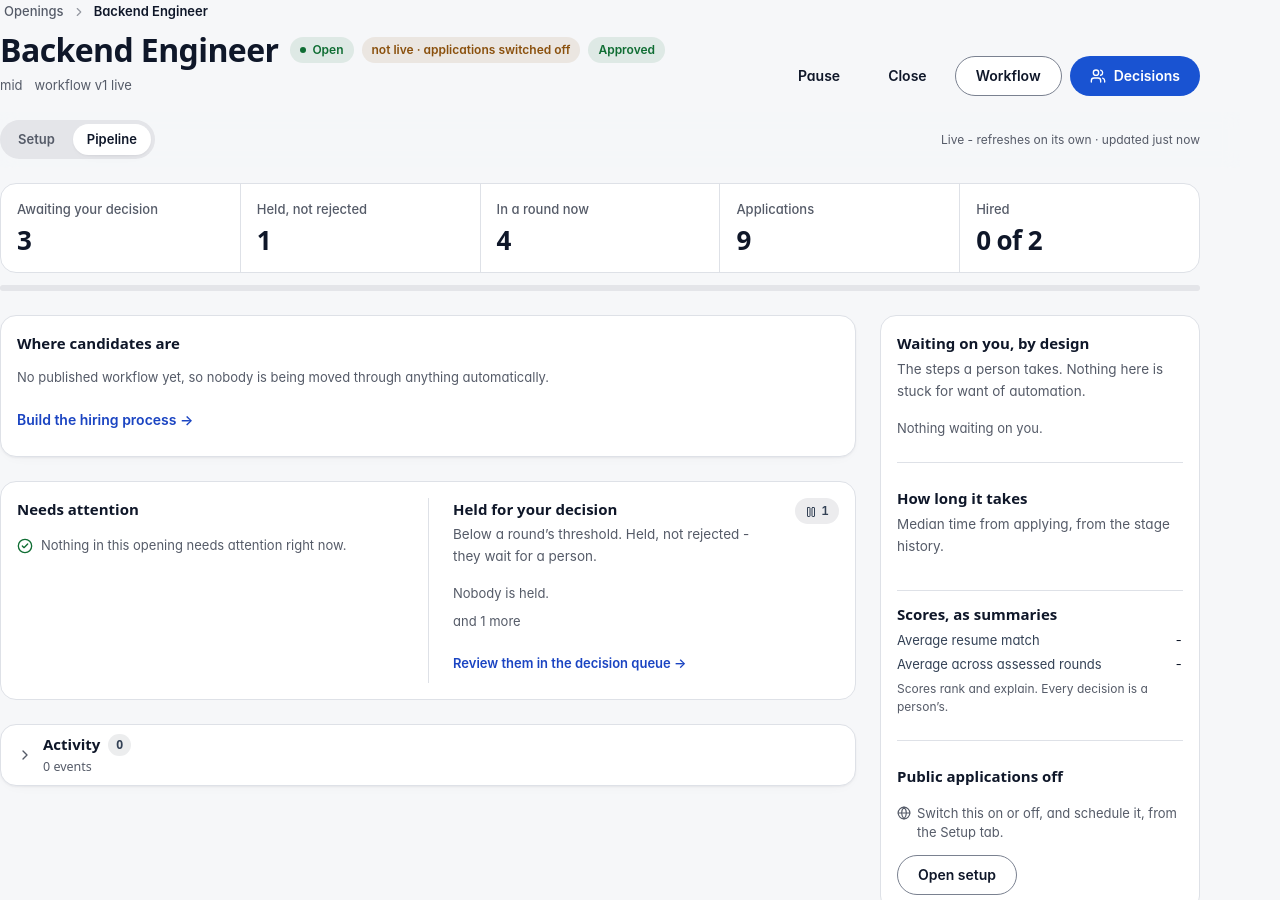
closing an opening (AC-12) › prompts with the count instead of reporting a failure
The width and height of the screenshot is (1280, 900).
Click the button "Close".
click(907, 76)  # box [868,56,947,96]
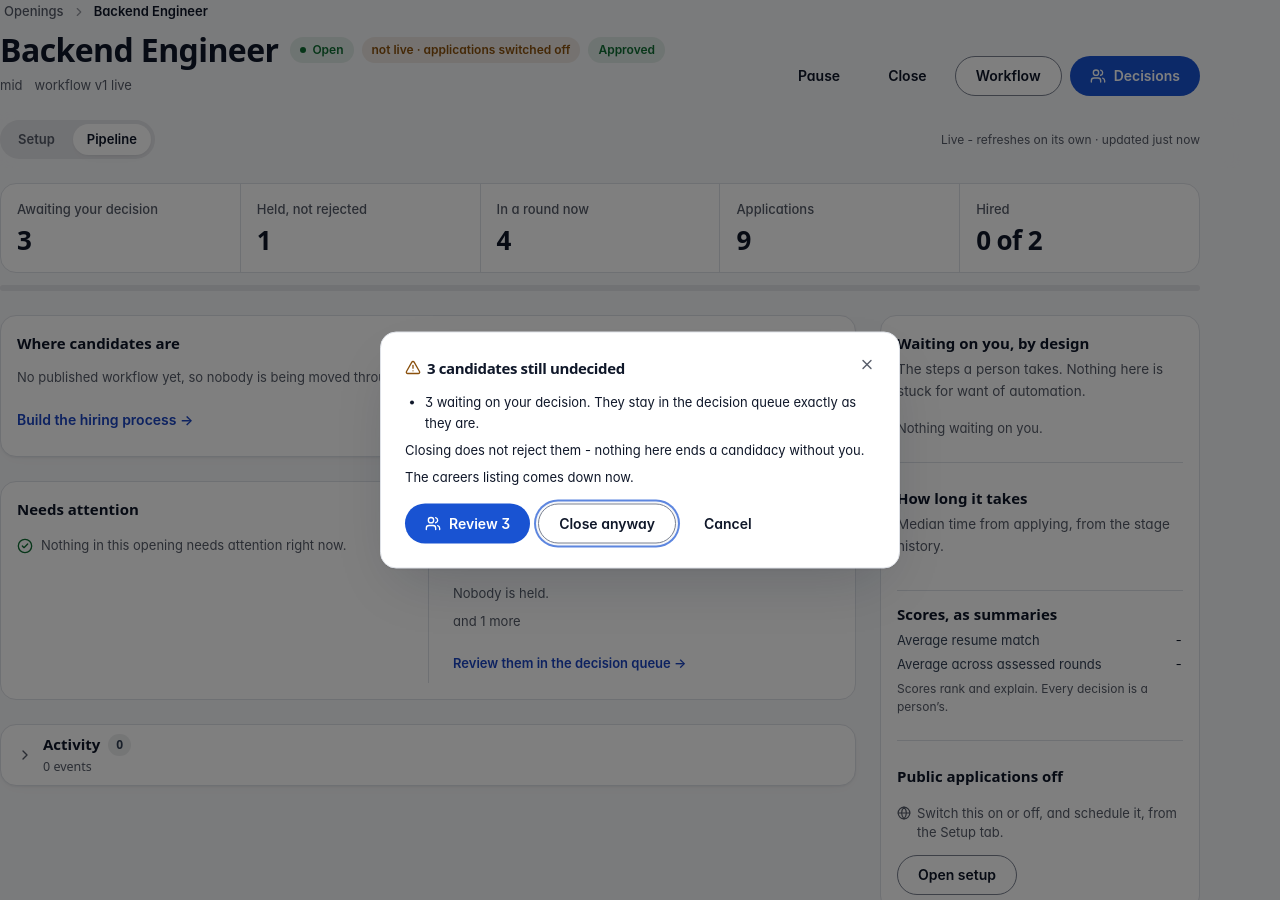
Check: the dialog is shown, box [380,332,900,568]
Check: the heading "3 candidates still undecided" is shown, box [405,358,625,378]
